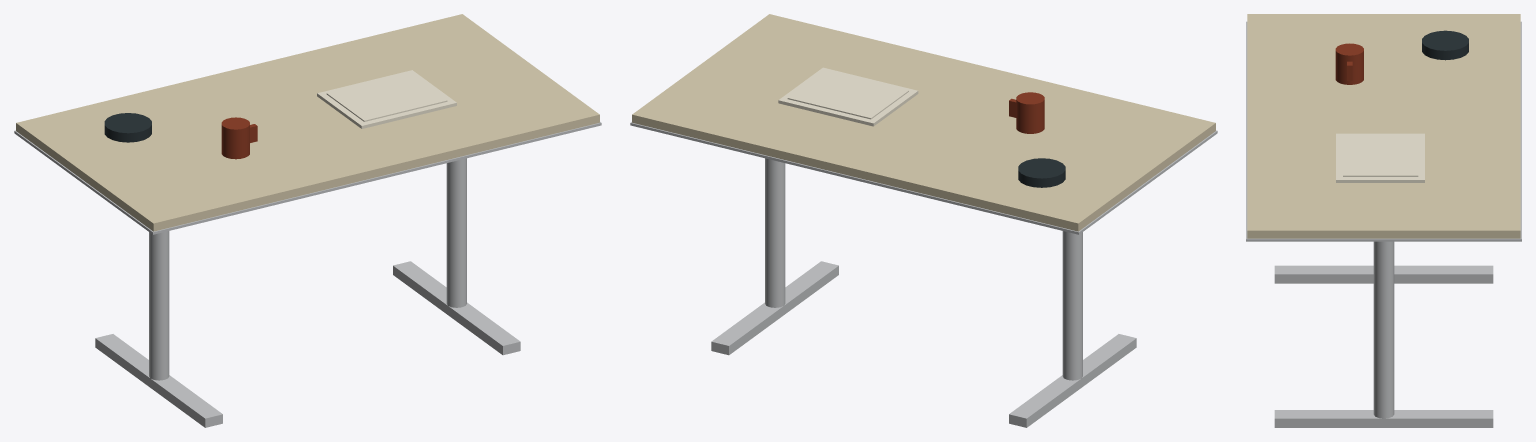
Rendered from SM_80s_BreakTable.glb.
3 renders of one model, left to right at view 1: azimuth 30°, elevation 25°; view 2: azimuth 150°, elevation 25°; view 3: azimuth 270°, elevation 25°, orthographic.
Visible parts, largest first — view 1: SM_80s_BreakTable; view 2: SM_80s_BreakTable; view 3: SM_80s_BreakTable.
Part boxes in pixels (<box>): SM_80s_BreakTable: <box>14,14,601,427</box>; SM_80s_BreakTable: <box>630,14,1217,427</box>; SM_80s_BreakTable: <box>1246,14,1521,427</box>.
Size of the model in its own units: 1.99 by 1.1 by 1.07.
